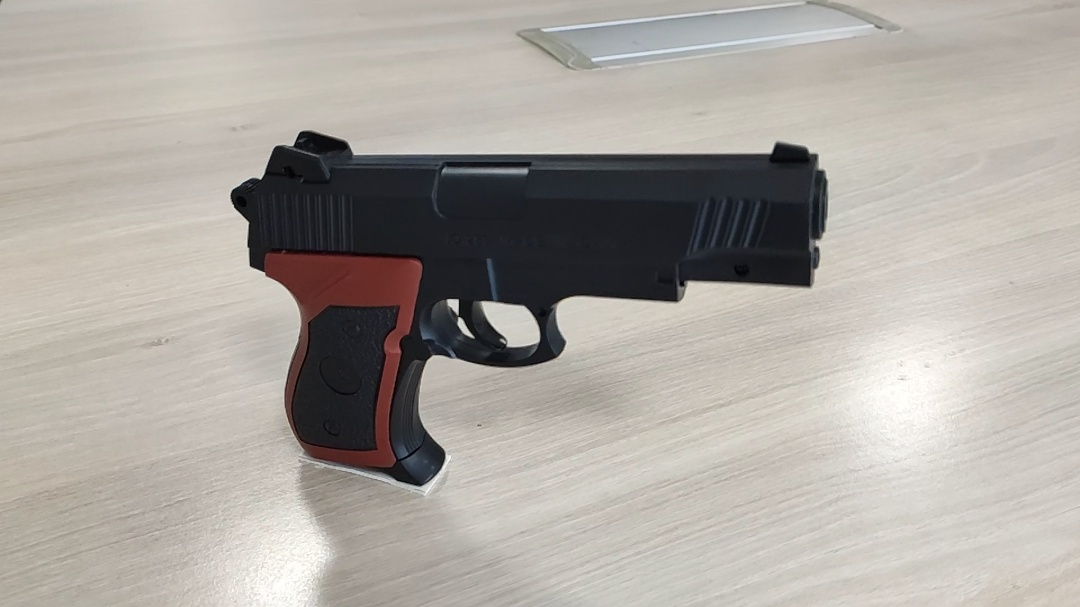gun: (291, 119, 654, 485)
